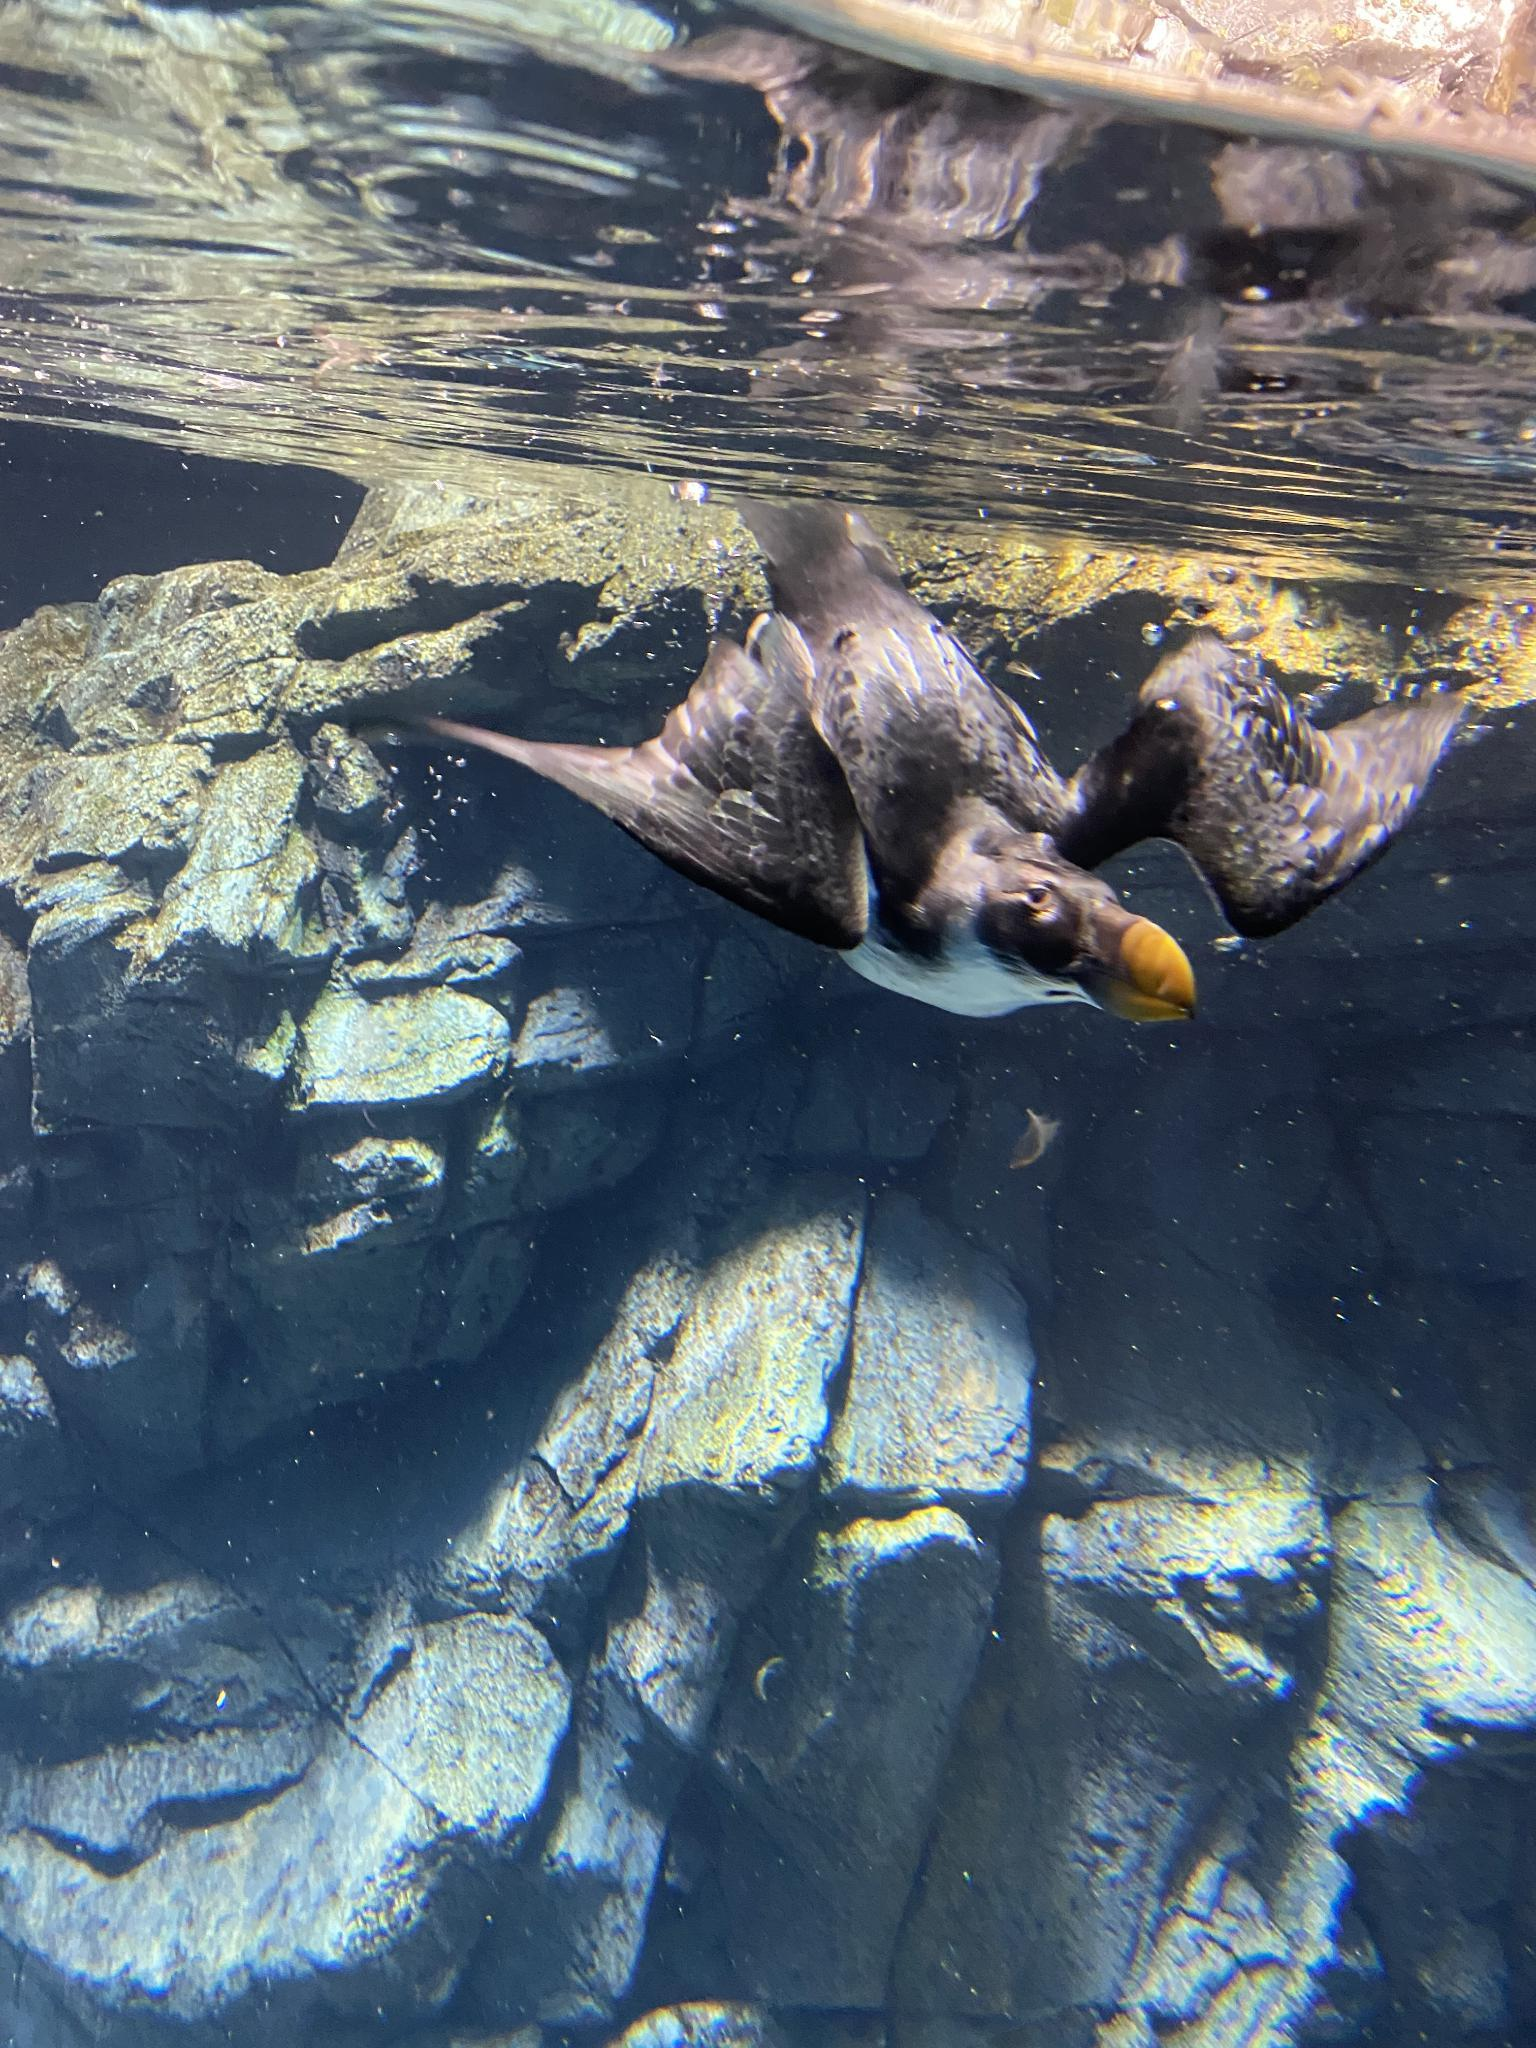puffin: (432, 487, 1475, 1032)
